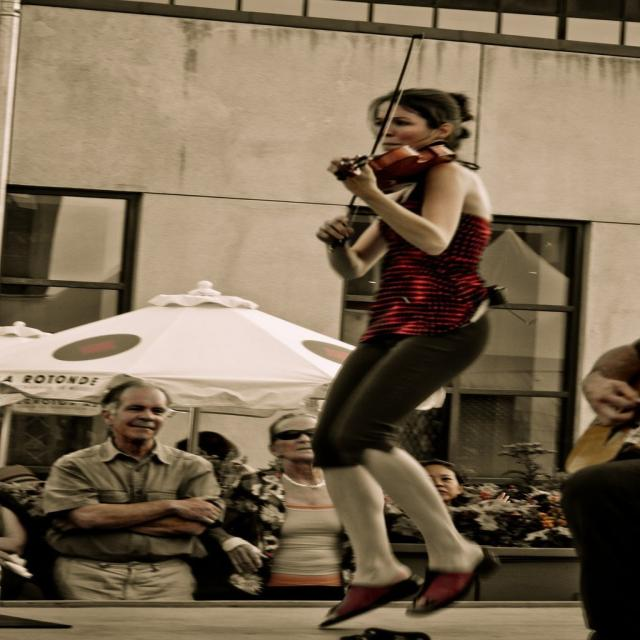guitar: (558, 370, 640, 472)
violin: (327, 143, 458, 196)
